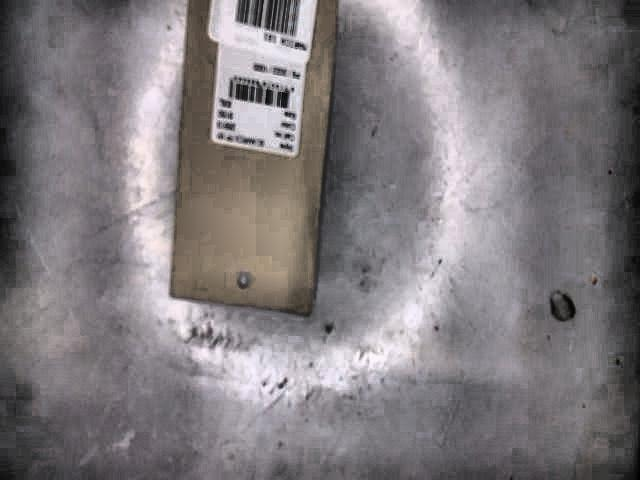Paper: (169, 0, 338, 317)
